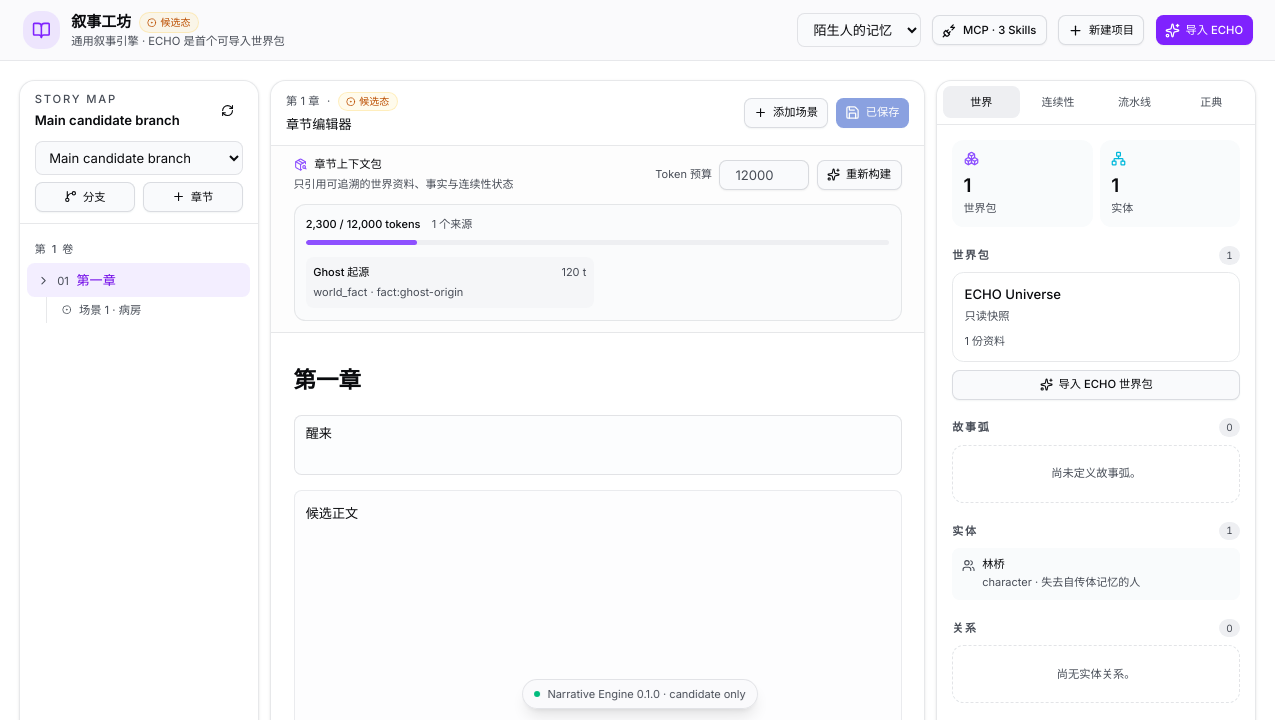
it: NarrativePage › turns a missing-model backend error into a user-facing setup hint
The width and height of the screenshot is (1280, 720).
Expected: the field showing "第一章" is shown, [294,356,902,404]
Click the button "流水线" at [1135, 102], box [1096,86,1173,118]
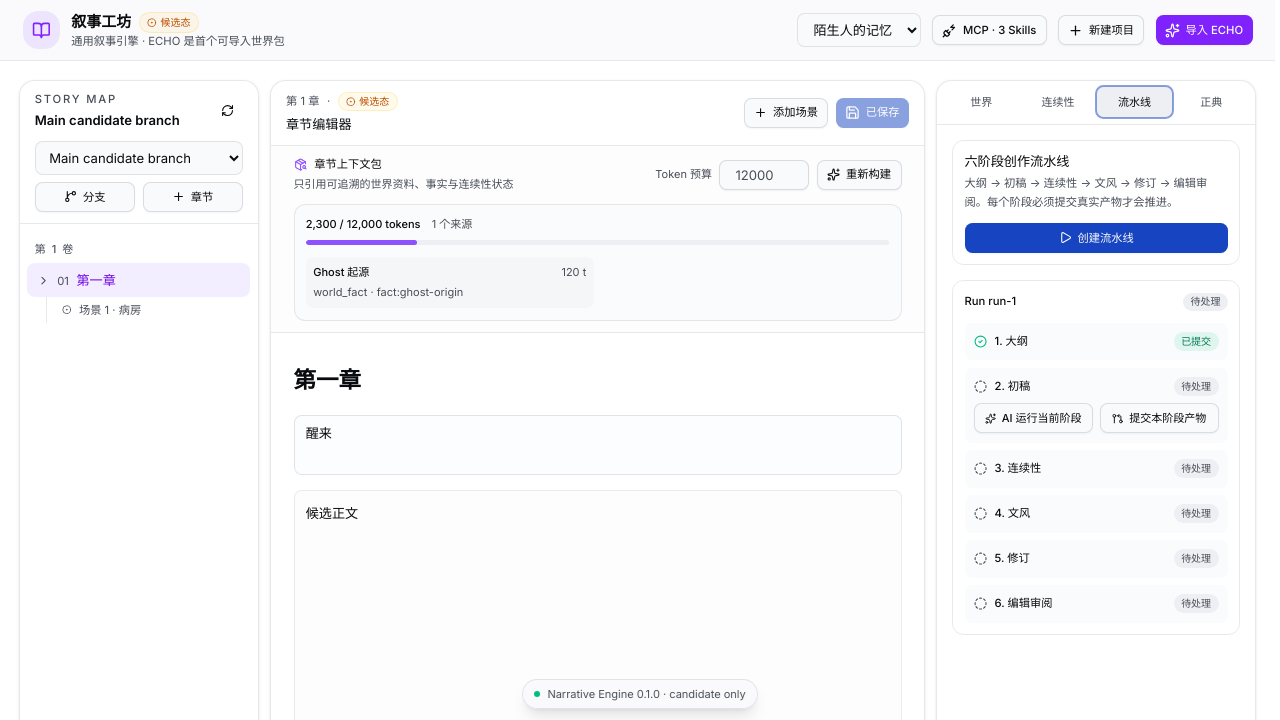
Click the button "AI 运行当前阶段" at [1033, 418], box [974,403,1092,433]
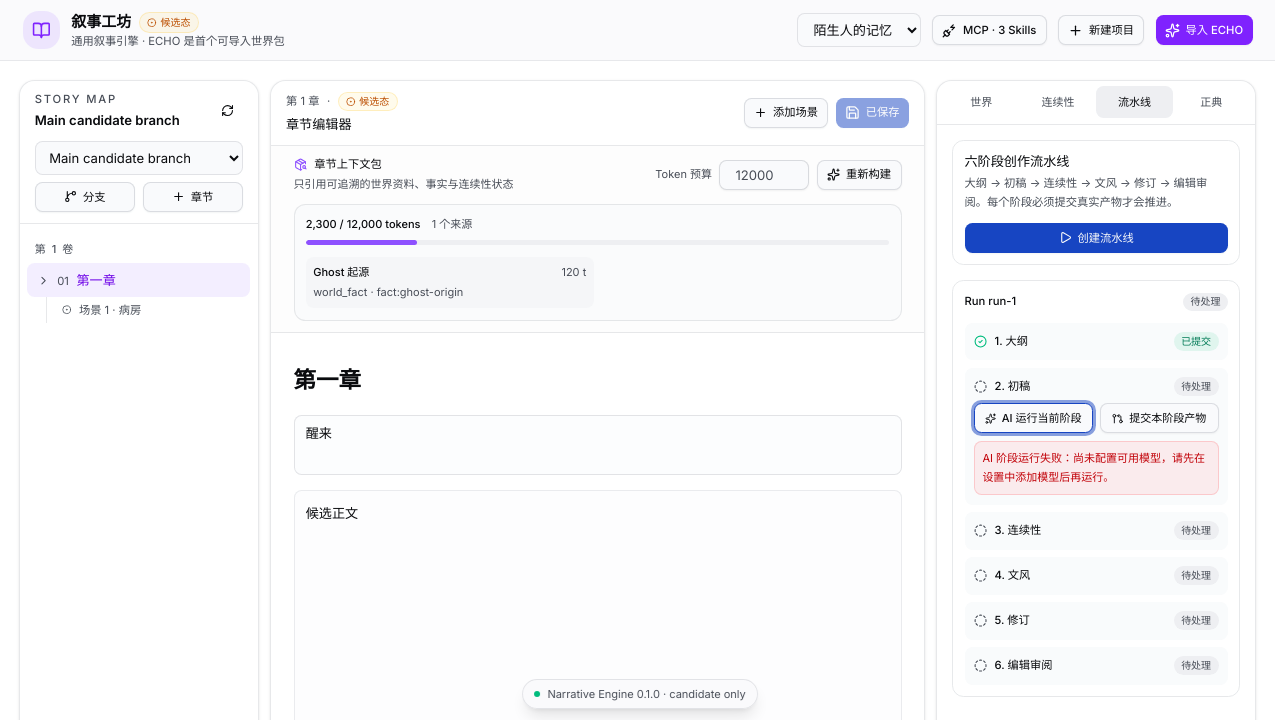
Expected: the text "AI 阶段运行失败：尚未配置可用模型，请先在设置中添加模型后再运行。" is shown, [974,441,1219,495]
